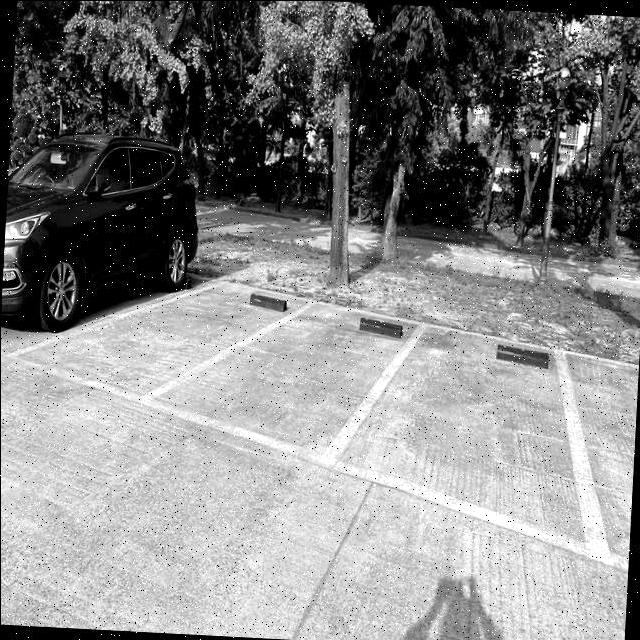vacant: (316, 308, 636, 553), (137, 271, 424, 474), (7, 255, 325, 435)
